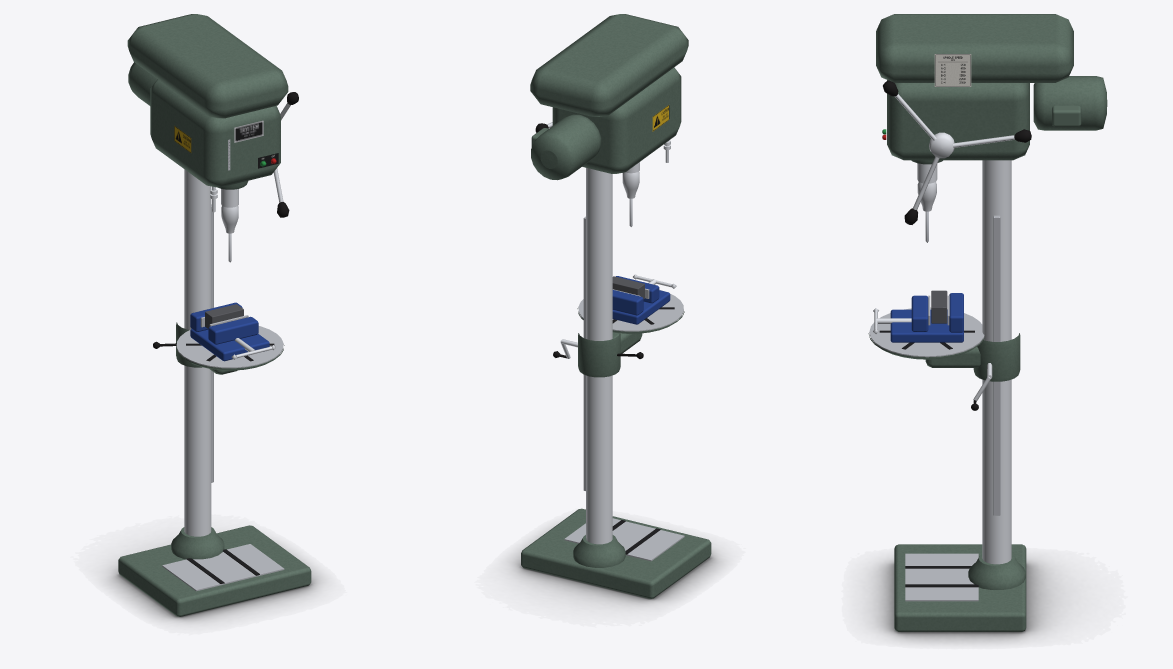
The model's file is drill_press.glb.
3 renders of one model, left to right at view 1: azimuth 30°, elevation 25°; view 2: azimuth 150°, elevation 25°; view 3: azimuth 270°, elevation 25°, orthographic. The views are drawn at different scales.
Visible parts, largest first — view 1: drill_press_LOD0, drill_press_Shadow; view 2: drill_press_LOD0, drill_press_Shadow; view 3: drill_press_LOD0, drill_press_Shadow.
Boxes of the visible parts, box(x1,y1,x2,y2) form: drill_press_LOD0: box(118, 14, 311, 616); drill_press_Shadow: box(108, 565, 320, 621); drill_press_LOD0: box(521, 14, 711, 598); drill_press_Shadow: box(511, 550, 721, 604); drill_press_LOD0: box(868, 14, 1107, 631); drill_press_Shadow: box(873, 559, 1055, 641).
Size of what is drawn, in the model's own units: 0.74 by 1.72 by 0.931.
Materials: 3 (3 with a texture image).
